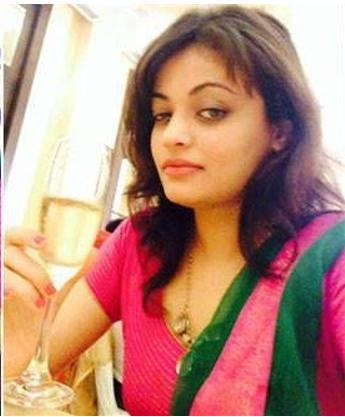Drunk: (149, 43, 258, 207)
